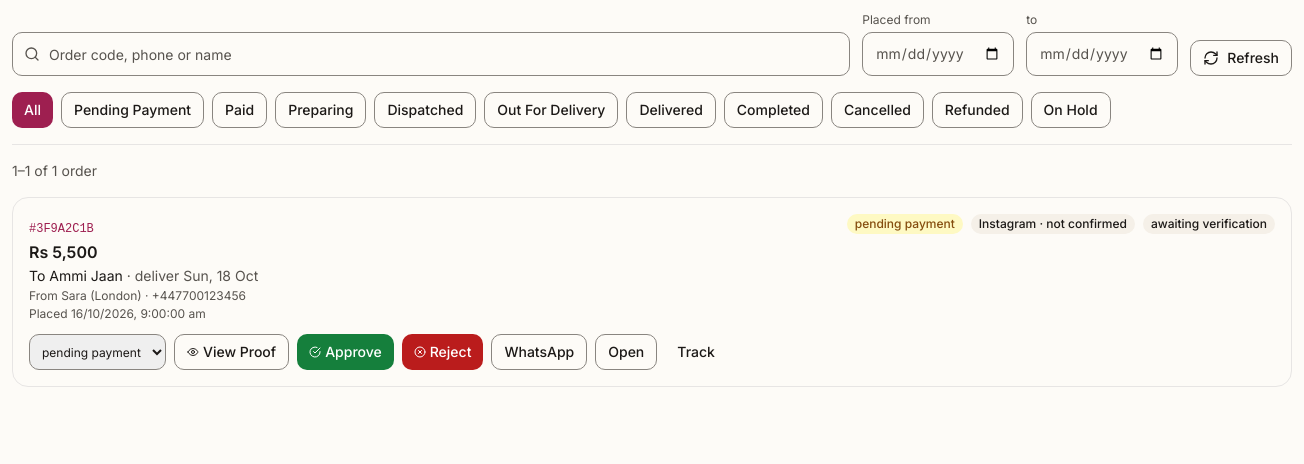
OrderList › changes status and reports a failure
Select "preparing" in the dropdown named "Status of order 3F9A2C1B". click: (98, 352)
box: [29,334,166,370]
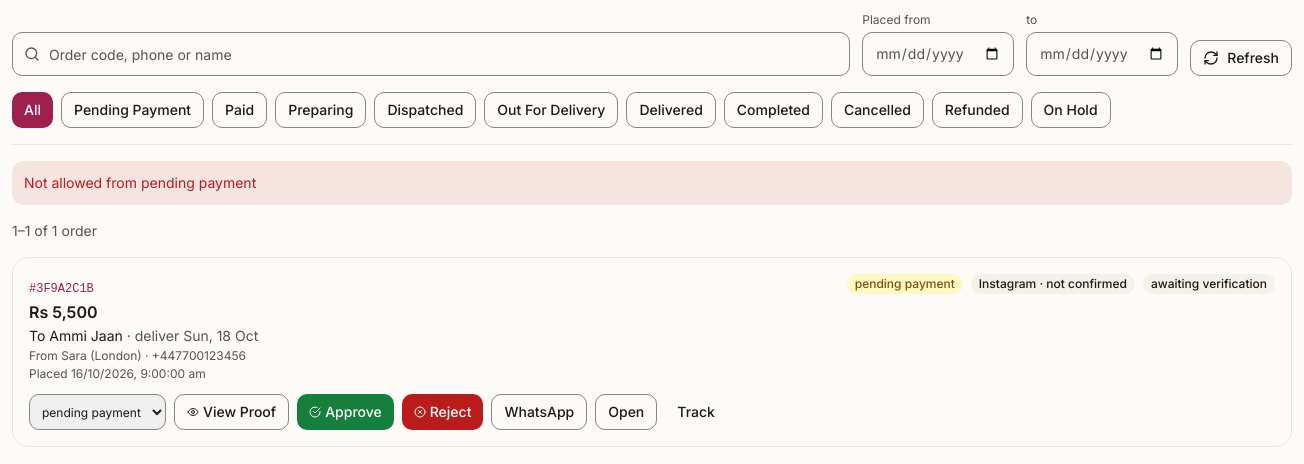
Now the message "Not allowed from pending payment" is shown, box [24,174,256,191]
